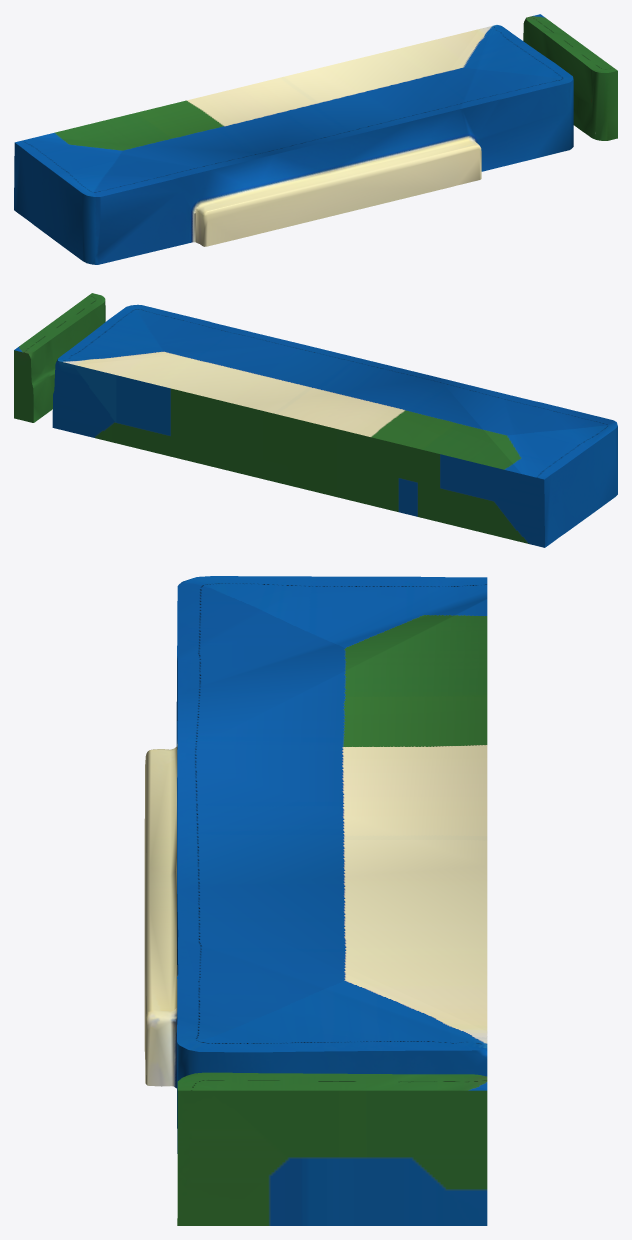
The model's file is 9-roof-front-left.fbx.
3 renders of one model, top to bottom at view 1: azimuth 30°, elevation 25°; view 2: azimuth 150°, elevation 25°; view 3: azimuth 270°, elevation 25°, orthographic. The views are drawn at different scales.
Parts seen in each view (by area): view 1: roof-front-left; view 2: roof-front-left; view 3: roof-front-left.
Part boxes in pixels (bbox=[...]): roof-front-left: bbox=[14, 14, 617, 264]; roof-front-left: bbox=[14, 293, 617, 547]; roof-front-left: bbox=[144, 576, 487, 1225].
Size of the model in its own units: 5943 by 729 by 1672.
Materials: 1 (1 with a texture image).
